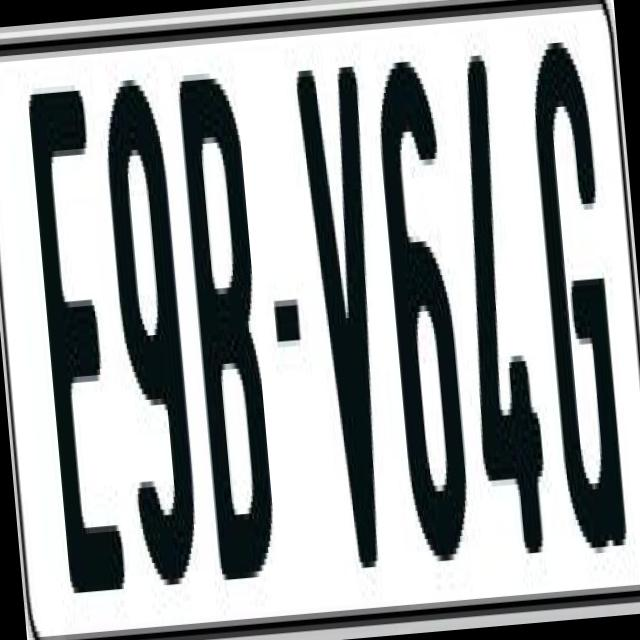4: (447, 46, 558, 568)
6: (373, 53, 477, 574)
9: (97, 60, 201, 593)
B: (175, 64, 279, 592)
E: (22, 84, 131, 612)
G: (528, 40, 630, 555)
V: (292, 59, 402, 576)
